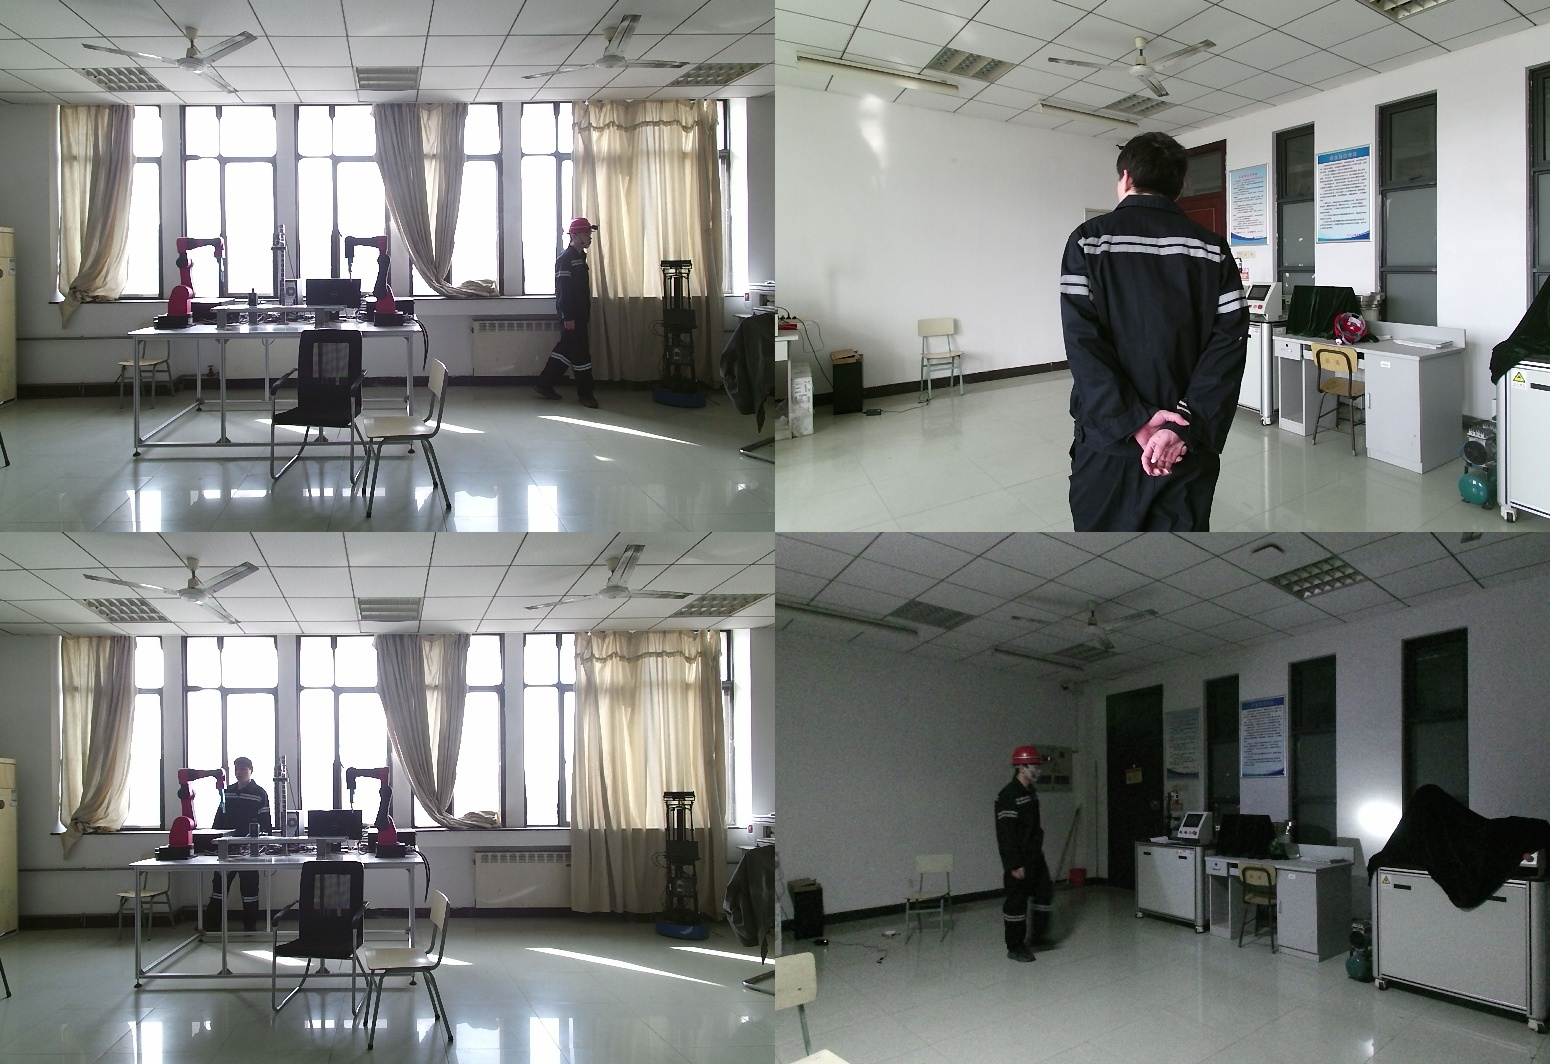person: (1063, 132, 1269, 532), (986, 745, 1051, 972), (199, 758, 272, 946), (538, 217, 604, 411)
